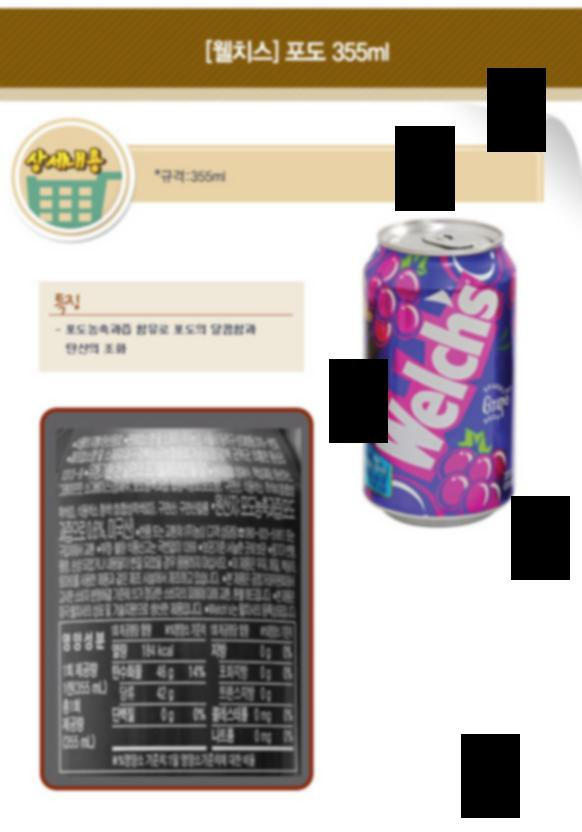welchs_grape: (351, 208, 522, 534)
